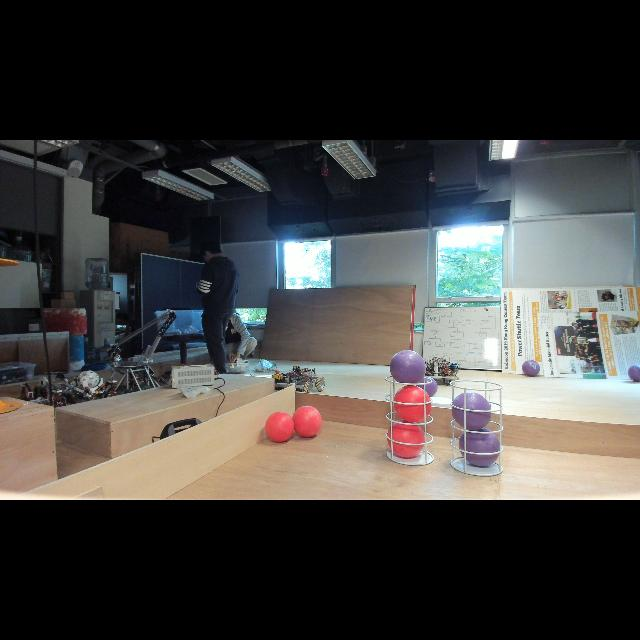P: (458, 427, 500, 467), (452, 392, 492, 431), (389, 349, 426, 385), (416, 376, 438, 396), (522, 359, 540, 376), (628, 364, 640, 382)
R: (386, 418, 426, 458), (394, 385, 432, 423), (292, 406, 322, 438), (266, 412, 294, 442)
S: (450, 379, 504, 477), (384, 375, 436, 467)
